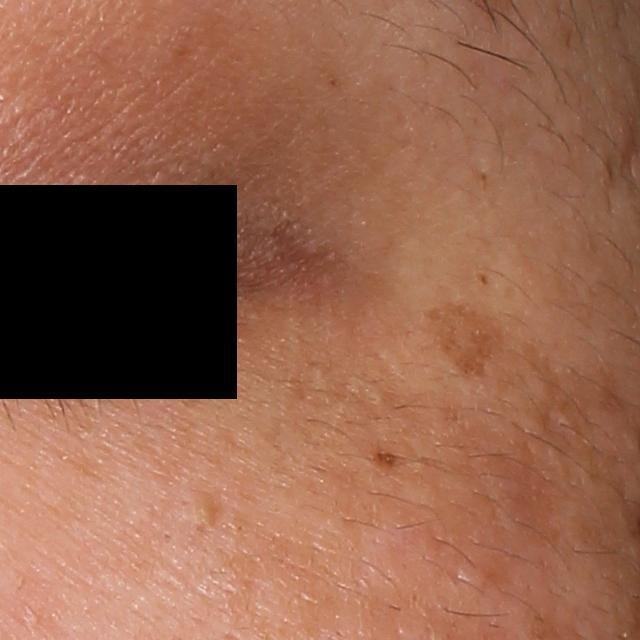comedo: (181, 495, 216, 527)
melasma: (422, 298, 517, 385)
nevus: (375, 449, 399, 469)
